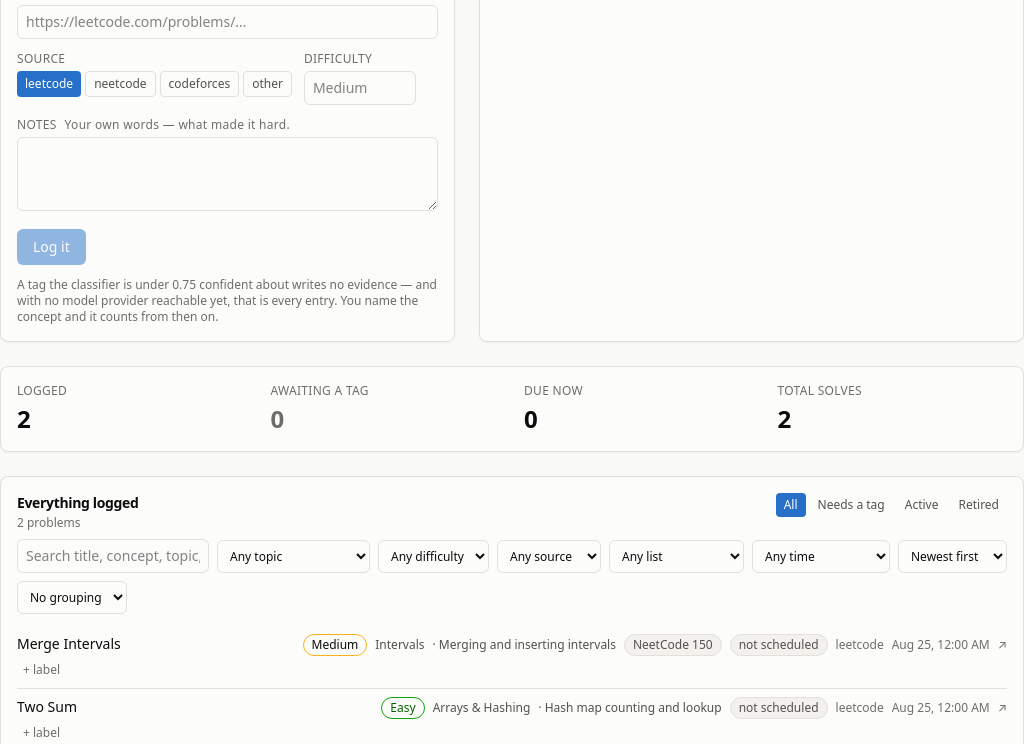
it: practice log › files a problem under its topic, and filters and groups by it
This screenshot has width=1024, height=744.
(page scrolled)
Check: the text "· Merging and inserting intervals" is shown, box [432,637,616,653]
Check: the text "NeetCode 150" is shown, box [624,634,722,656]
Filter options come from the log itself, with counts.
Select "Intervals (1)" in the dropdown named "Topic": (294, 556) [217,540,370,573]
(page scrolled)
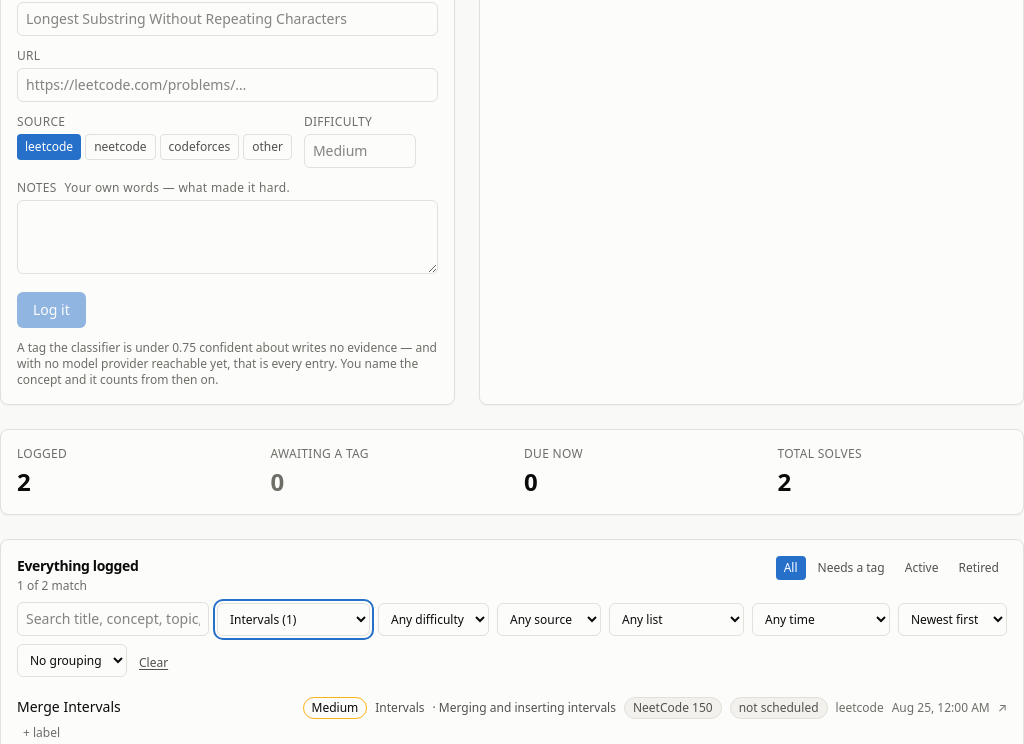
Check: the text "1 of 2 match" is shown, box [17,577,87,594]
Check: the link "Two Sum" is gone
Click the button "Clear": (154, 663) [135,649,172,677]
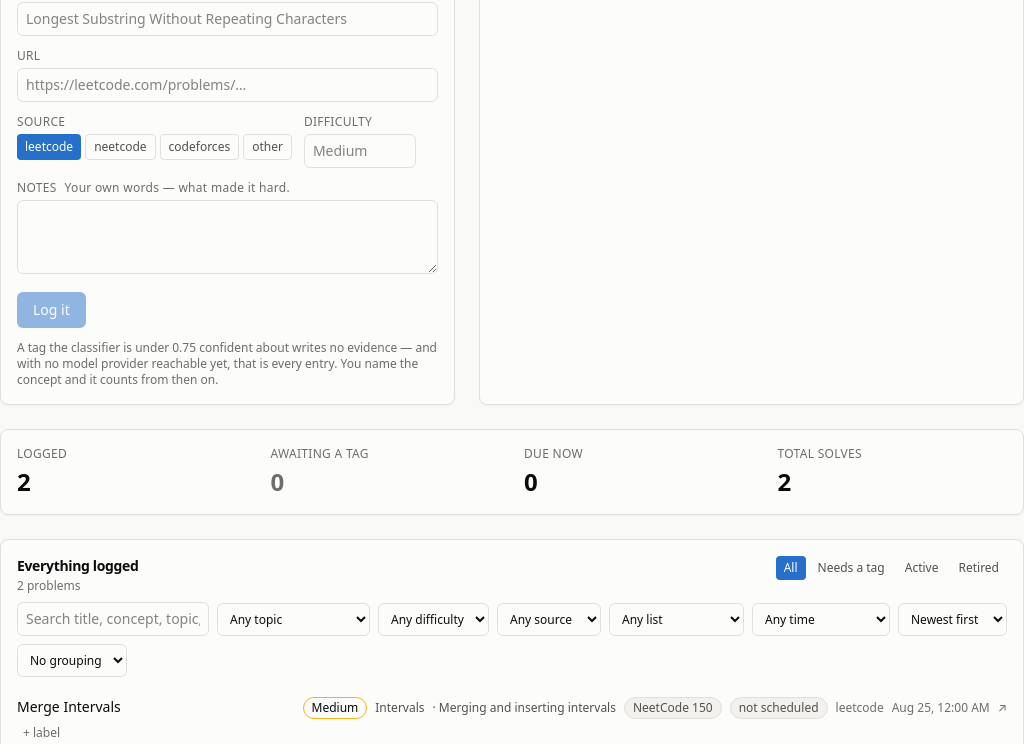
Select "Topic" in the dropdown named "Group by": (72, 660) [17,644,127,677]
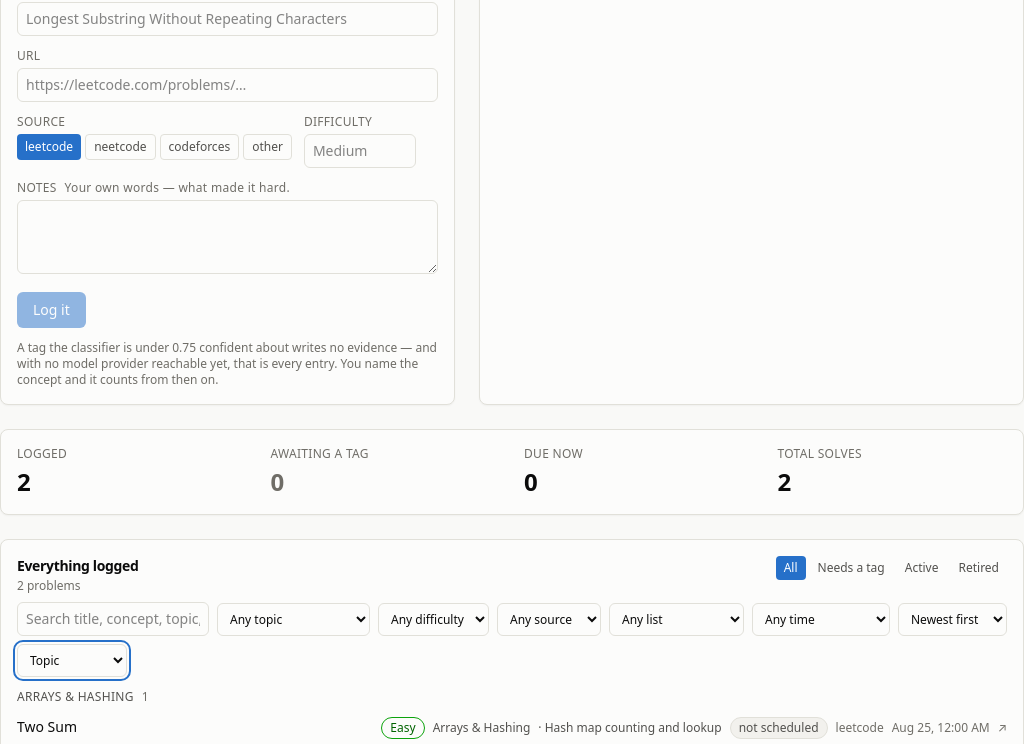
Check: the link "Two Sum" is shown, box [17,717,77,736]
